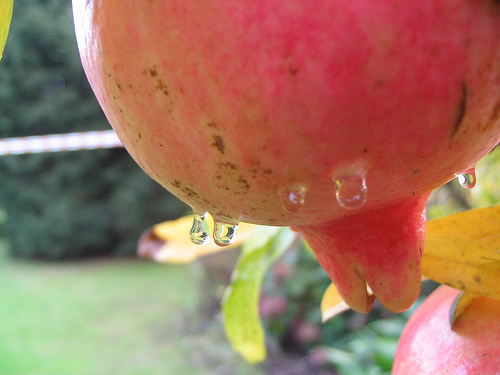pomogranate: (69, 0, 499, 316), (389, 281, 498, 373)
